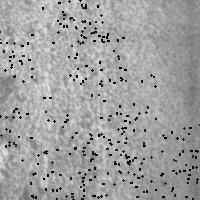pitted_surface: (1, 1, 129, 188), (43, 94, 100, 153), (68, 26, 125, 83), (87, 127, 144, 183), (30, 147, 89, 200), (100, 69, 155, 121), (92, 154, 150, 200), (42, 0, 102, 42), (160, 124, 200, 182), (0, 103, 30, 159), (0, 31, 31, 81), (147, 170, 197, 200)
